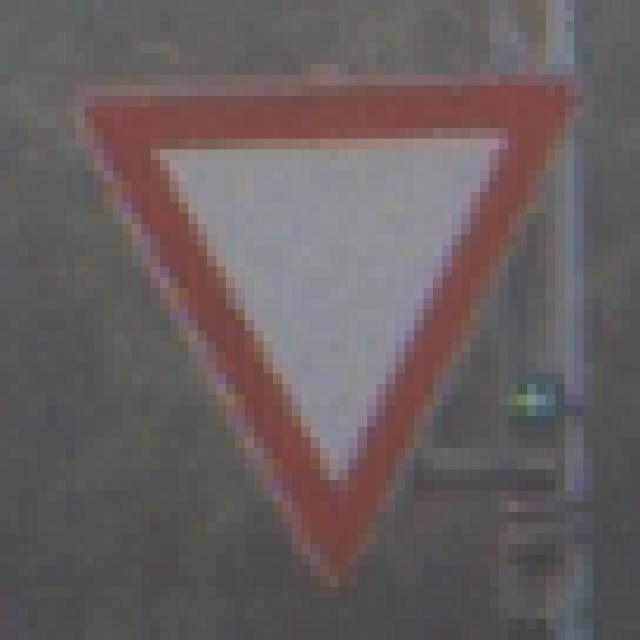Give Way: (67, 54, 584, 588)
